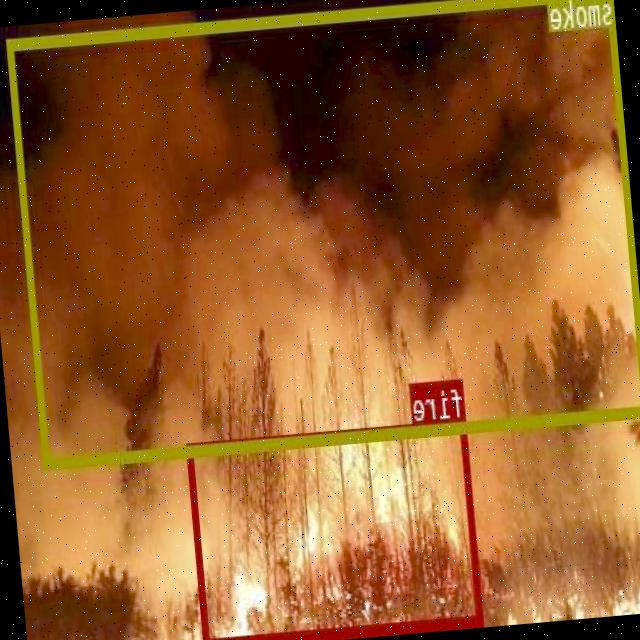fire: (188, 416, 485, 640)
smoke: (7, 0, 640, 467)
